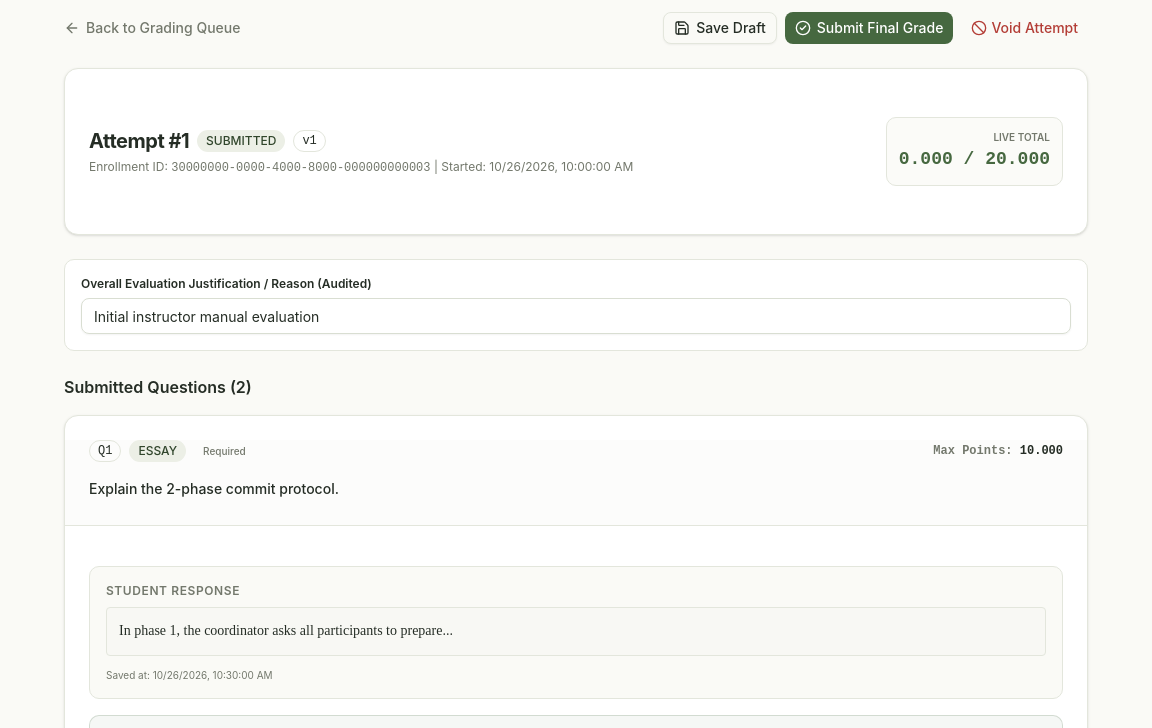
AttemptGradingView Component › detects stale version conflict and renders StaleGradeAlert
Click the button "Submit Final Grade".
click(869, 28)  # box left=785, top=12, right=953, bottom=44
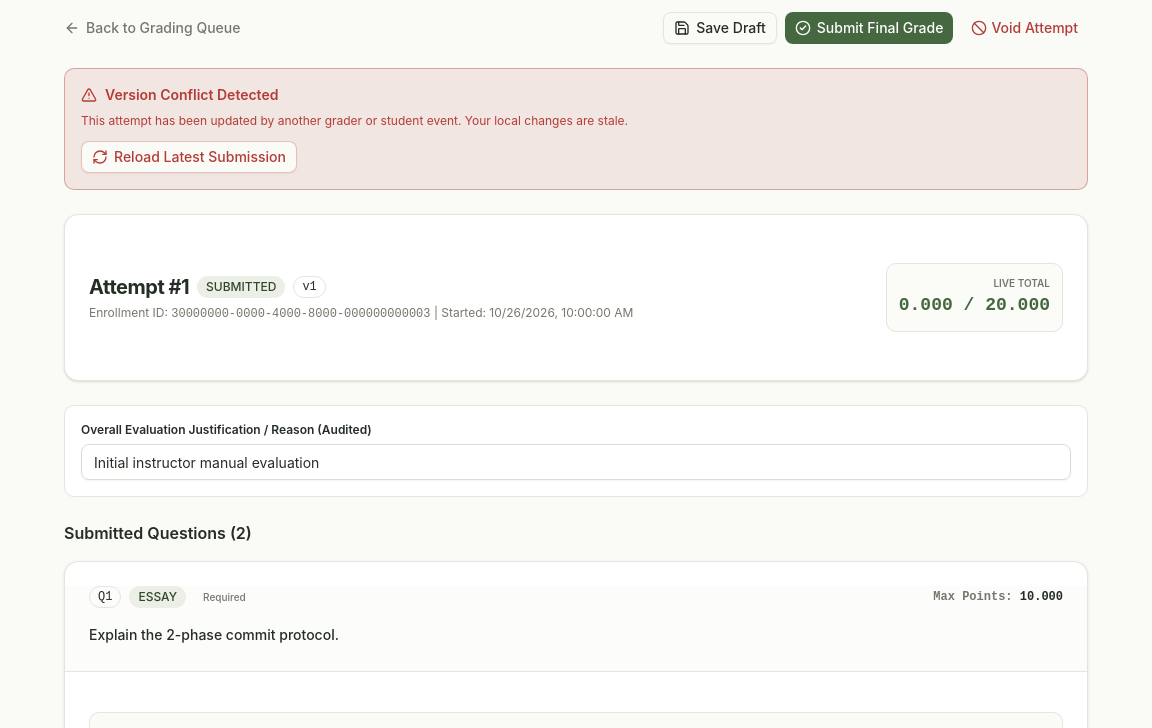
expect the text "Version Conflict Detected" is shown: met, box left=81, top=86, right=278, bottom=103
expect the button "Reload Latest Submission" is shown: met, box left=81, top=141, right=297, bottom=173
